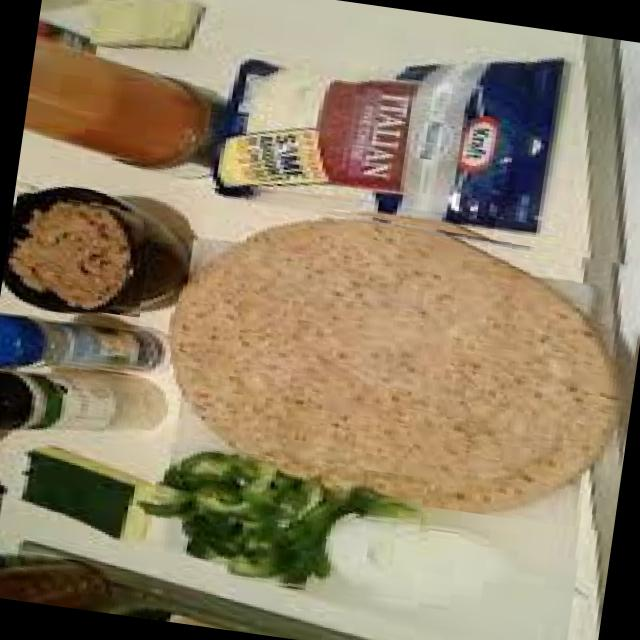Organic: (155, 183, 640, 532), (136, 440, 430, 608), (3, 190, 156, 317)
